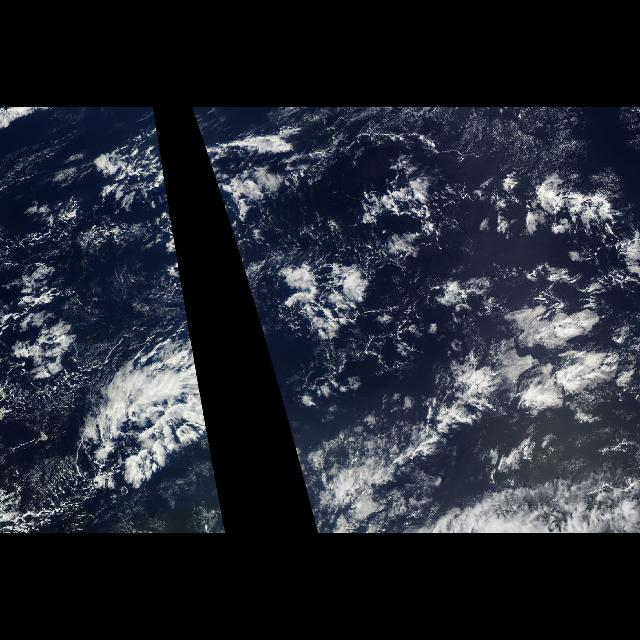Fish: (295, 359, 499, 527), (76, 312, 222, 502)
Flower: (454, 159, 640, 481)
Gravel: (272, 205, 438, 379)
Sugar: (272, 107, 624, 185)
